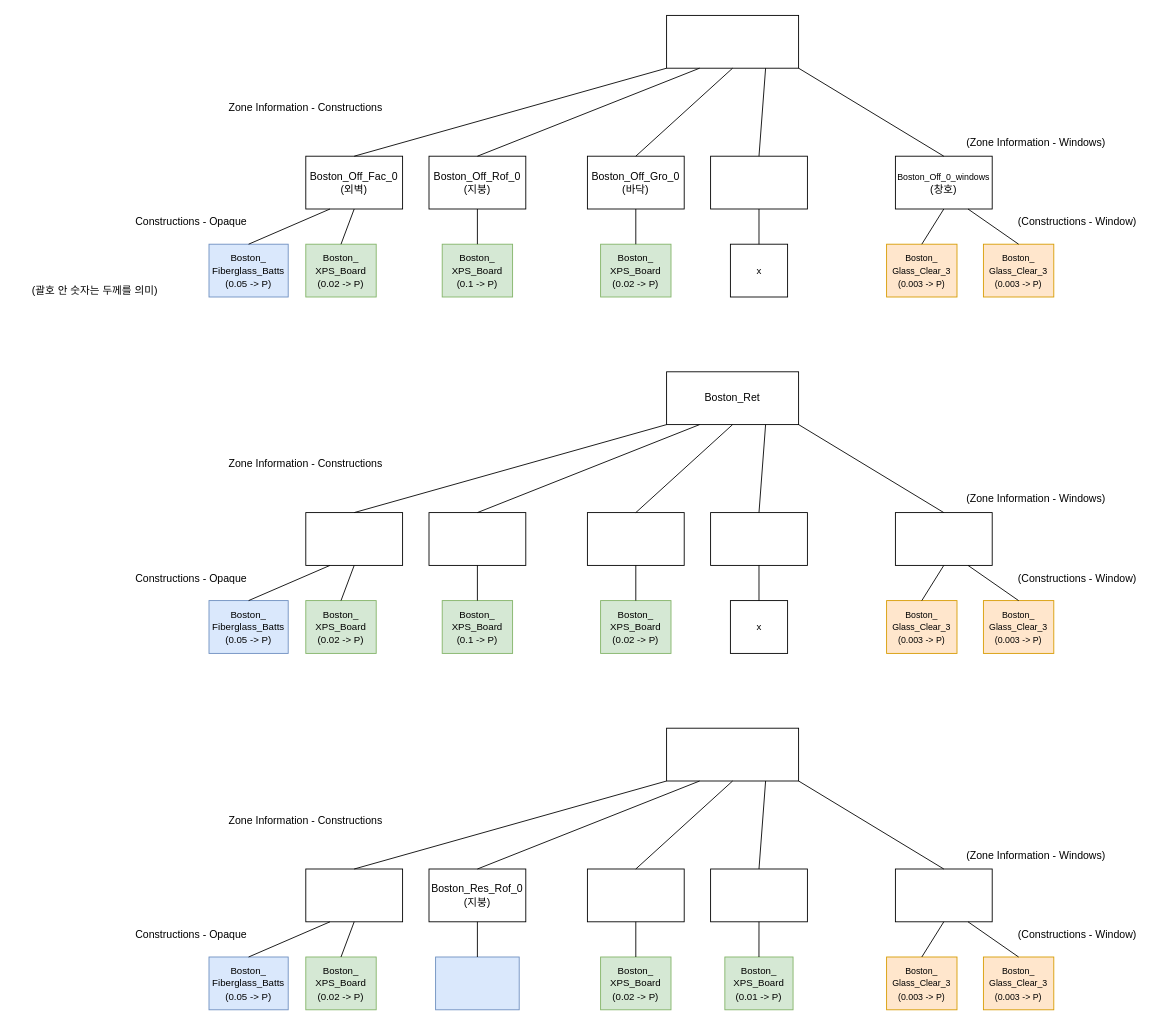
Image size: 1154x1025. Some labels were removed from this diagram. The shapes that lost their labels are listed below. From the top down, each one's box as (x1, y1, x2, y2) in pixels, then its label:
(666, 15, 799, 68): Boston_Off
(710, 155, 807, 209): Boston_Off_Inf_0 (층 내 바닥)
(305, 512, 403, 565): Boston_Ret_Fac_0 (외벽)
(428, 512, 526, 565): Boston_Ret_Rof_0 (지붕)
(587, 512, 684, 565): Boston_Ret_Gro_0 (바닥)
(710, 512, 807, 565): Boston_Ret_Inf_0 (층 내 바닥)
(895, 512, 992, 565): Boston_Ret_0_windows (창호)
(666, 727, 799, 781): Boston_Res
(305, 868, 403, 922): Boston_Res_Fac_0 (외벽)
(587, 868, 684, 922): Boston_Res_Gro_0 (바닥)
(710, 868, 807, 922): Boston_Res_Inf_0 (층 내 바닥)
(895, 868, 992, 922): Boston_Res_0_windows (창호)
(435, 956, 519, 1010): Boston_ Fiberglass_Batts (0.12 -> P)
